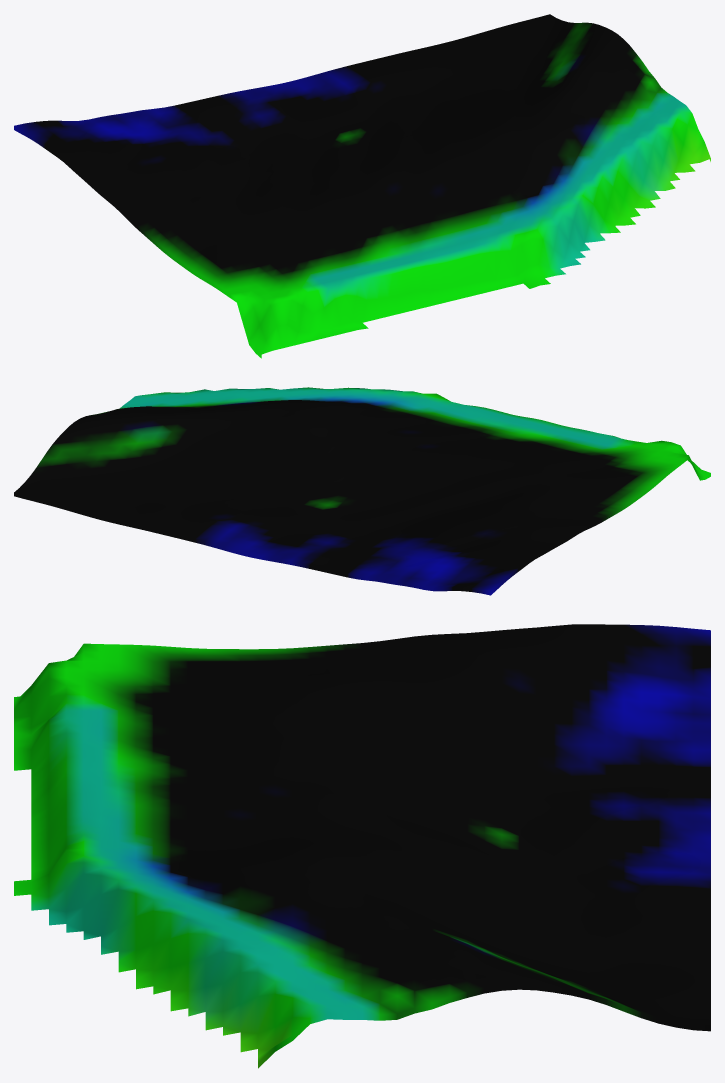
File: coast_10_14.glb
The picture shows the model from 3 angles, top to bottom: view 1: azimuth 30°, elevation 25°; view 2: azimuth 150°, elevation 25°; view 3: azimuth 270°, elevation 25°; orthographic projection. The views are drawn at different scales.
Parts seen in each view (by area): view 1: terrain; view 2: terrain; view 3: terrain.
Part boxes in pixels (box(x1,y1,x2,y2)): terrain: box(14, 14, 710, 358); terrain: box(14, 387, 710, 595); terrain: box(14, 624, 710, 1068).
Size of the model in its own units: 200 by 22.49 by 160.
